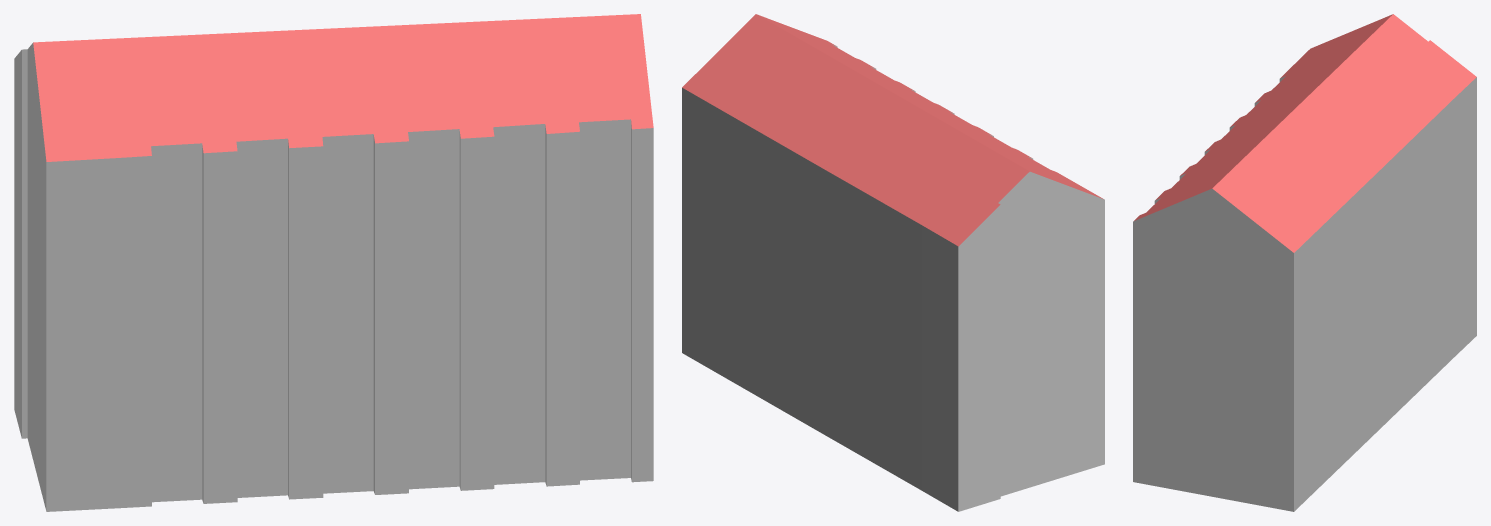
Rendered from DEBY_LOD2_4906976.gltf.
3 renders of one model, left to right at view 1: azimuth 30°, elevation 25°; view 2: azimuth 150°, elevation 25°; view 3: azimuth 270°, elevation 25°, orthographic. The views are drawn at different scales.
Parts seen in each view (by area): view 1: Z_UP; view 2: Z_UP; view 3: Z_UP.
Boxes of the visible parts, left/top/right/bottom form: Z_UP: left=14, top=14, right=653, bottom=511; Z_UP: left=682, top=14, right=1104, bottom=511; Z_UP: left=1133, top=14, right=1476, bottom=511.
Bounding box in the file's own units: 28.6 × 20.03 × 20.25.
